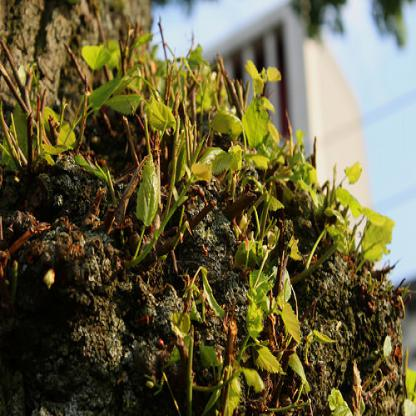TULIP: (11, 35, 409, 398)
